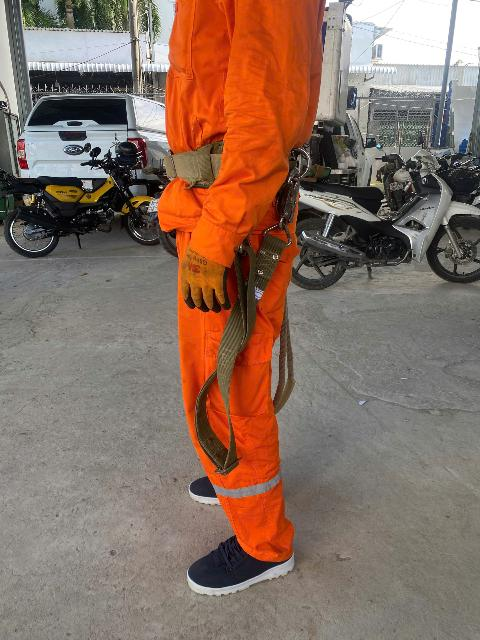gloves: (158, 208, 243, 323)
harness: (138, 133, 320, 207)
shoes: (165, 511, 312, 607), (164, 448, 265, 508)
